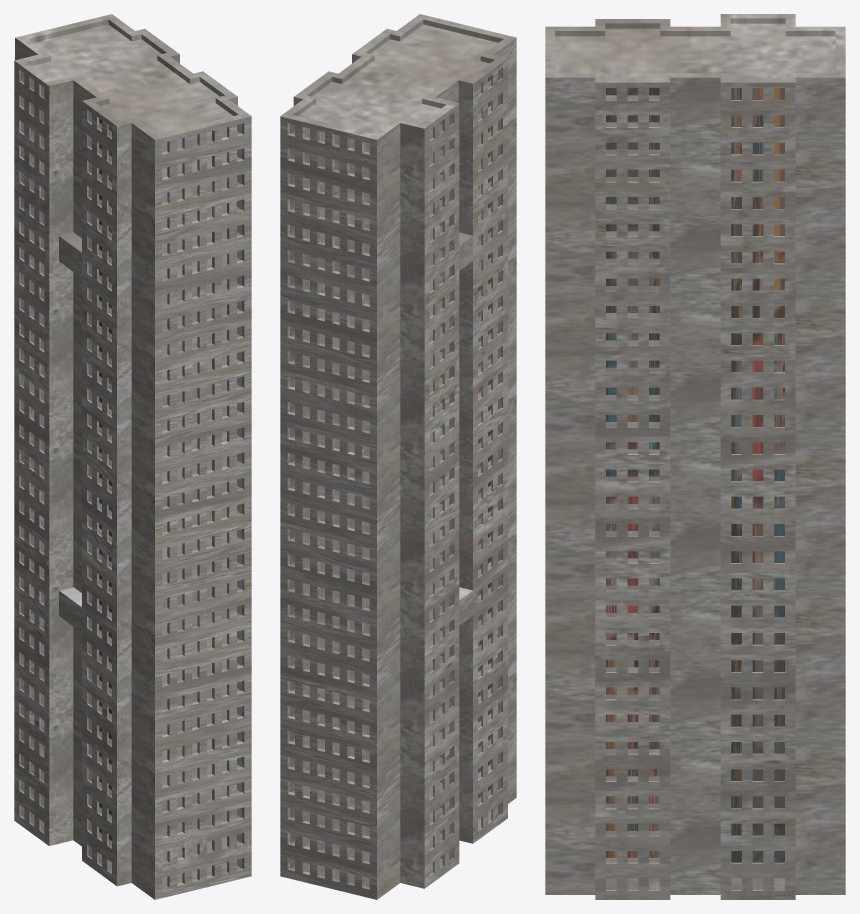
File: BuildingThree.glb
3 renders of one model, left to right at view 1: azimuth 30°, elevation 25°; view 2: azimuth 150°, elevation 25°; view 3: azimuth 270°, elevation 25°, orthographic. The views are drawn at different scales.
Visible parts, largest first — view 1: Cube, images.001; view 2: Cube, images.001; view 3: Cube, images.002, images.003.
Boxes of the visible parts, <box> form: Cube: <box>14,14,251,899</box>; images.001: <box>99,119,111,840</box>; Cube: <box>280,14,516,899</box>; images.001: <box>478,76,491,798</box>; Cube: <box>545,14,845,899</box>; images.002: <box>731,88,784,862</box>; images.003: <box>606,88,659,857</box>.
Bounding box in the file's own units: 27 × 150 × 50.
6 materials, 5 textured.
